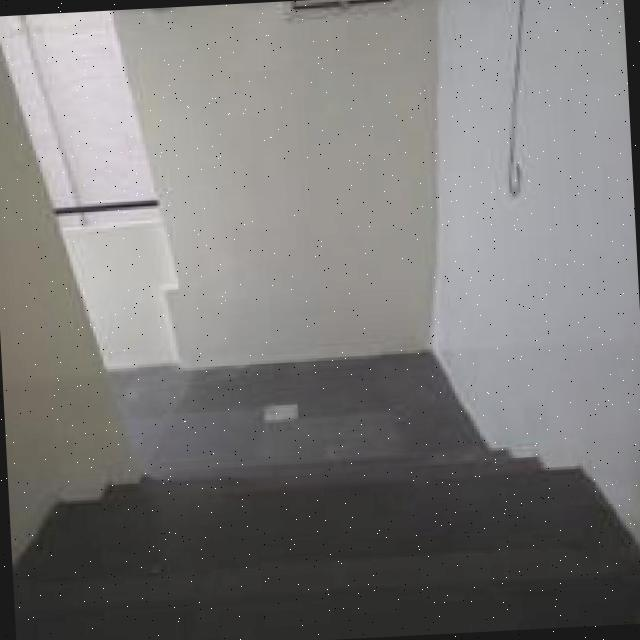stairs: (2, 336, 640, 640)
